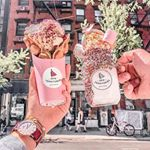other: (22, 18, 73, 110), (74, 27, 128, 107)
